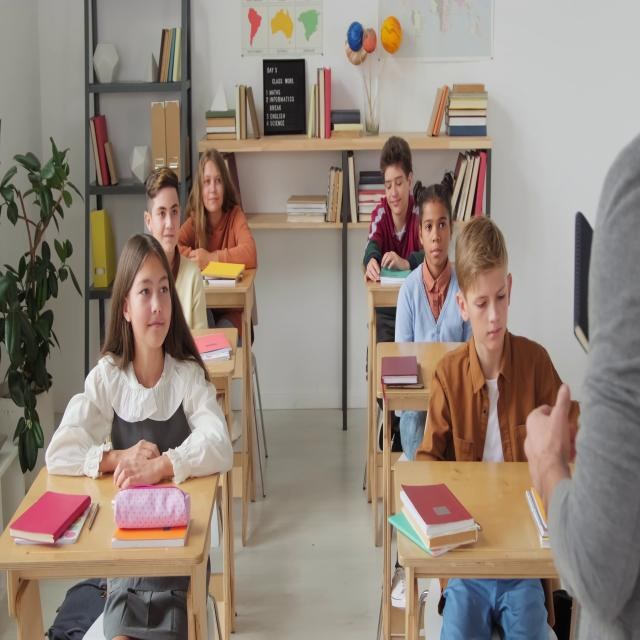listening: (413, 220, 575, 628), (49, 235, 237, 482), (182, 147, 260, 344), (392, 180, 466, 348), (146, 168, 212, 328)
reading: (360, 134, 420, 282)
